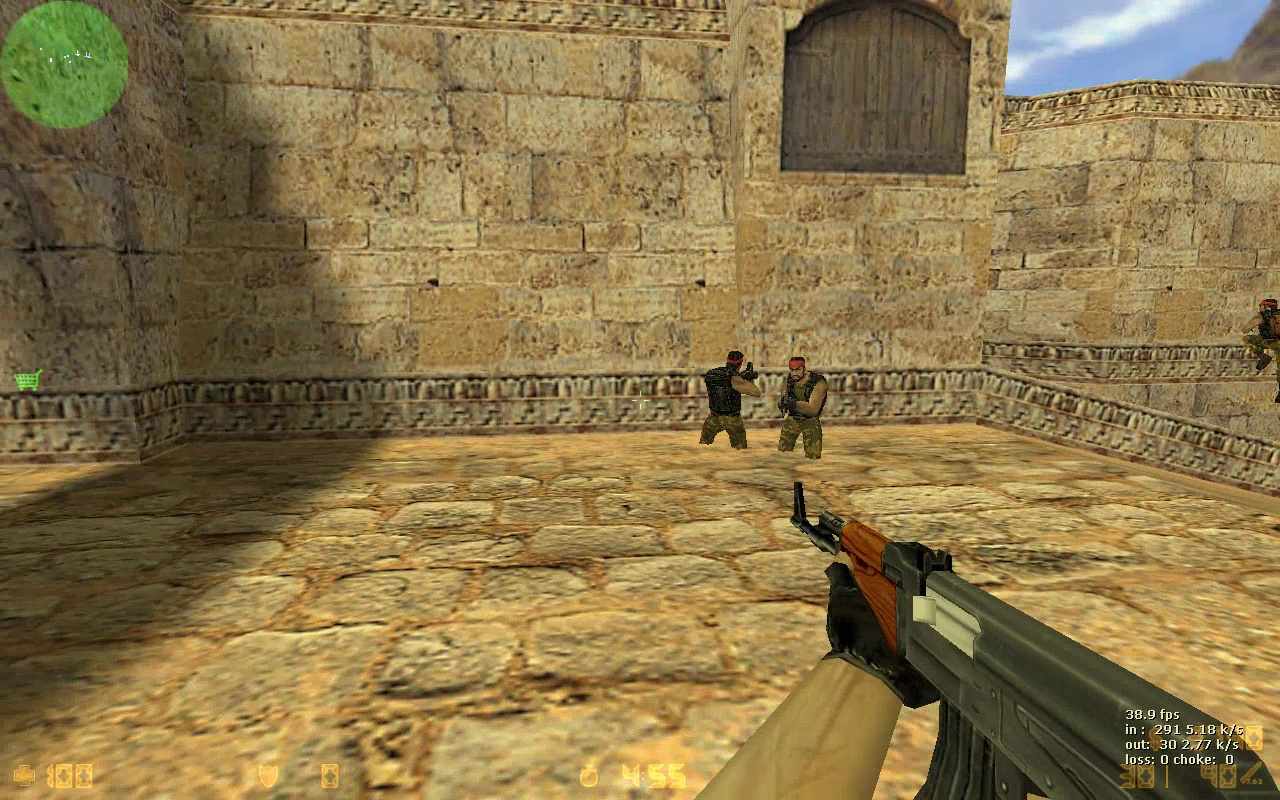terr1: (771, 360, 829, 459), (697, 350, 752, 451), (1238, 299, 1279, 411)
